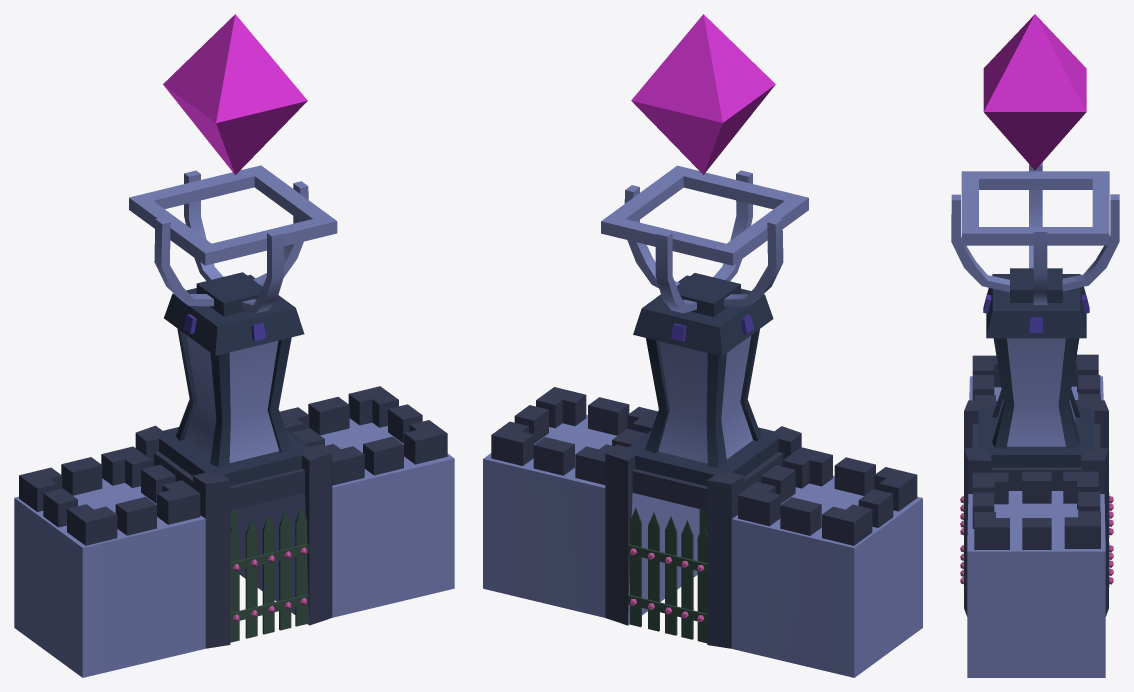
Rendered from tower base.fbx.
3 renders of one model, left to right at view 1: azimuth 30°, elevation 25°; view 2: azimuth 150°, elevation 25°; view 3: azimuth 270°, elevation 25°, orthographic. The views are drawn at different scales.
Visible parts, largest first — view 1: pCube25, pCube7; view 2: pCube25, pCube7; view 3: pCube25, pCube7.
Boxes of the visible parts, x1=… form: pCube25: x1=14, y1=165, x2=454, y2=677; pCube7: x1=163, y1=14, x2=307, y2=174; pCube25: x1=483, y1=165, x2=922, y2=677; pCube7: x1=631, y1=14, x2=775, y2=174; pCube25: x1=951, y1=162, x2=1119, y2=677; pCube7: x1=983, y1=14, x2=1086, y2=170.
Size of the model in its own units: 51.17 by 78.36 by 20.74.
